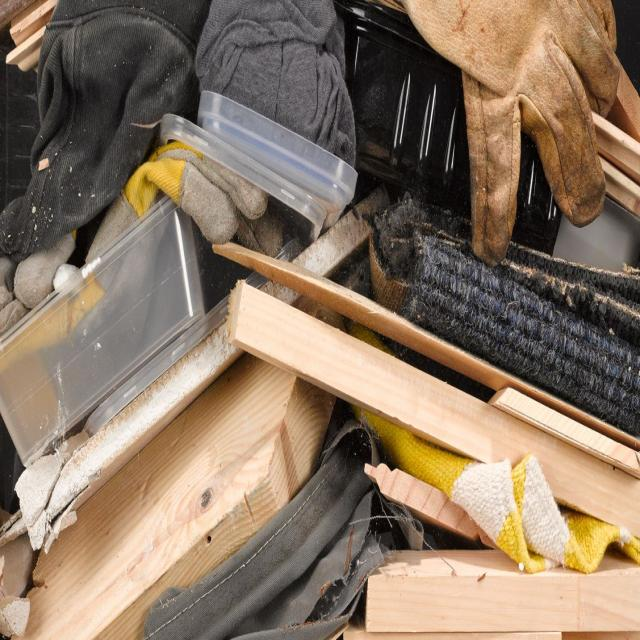Clothes-Biodegradable-: (0, 0, 359, 331), (368, 197, 640, 429), (400, 2, 624, 261), (151, 423, 396, 640), (378, 435, 629, 567)
Plastic-Non-Biodegradable but recyclable-: (165, 2, 469, 231), (0, 197, 208, 466)
green waste: (1, 191, 640, 637), (344, 547, 637, 640), (365, 469, 477, 540), (1, 3, 53, 80)
